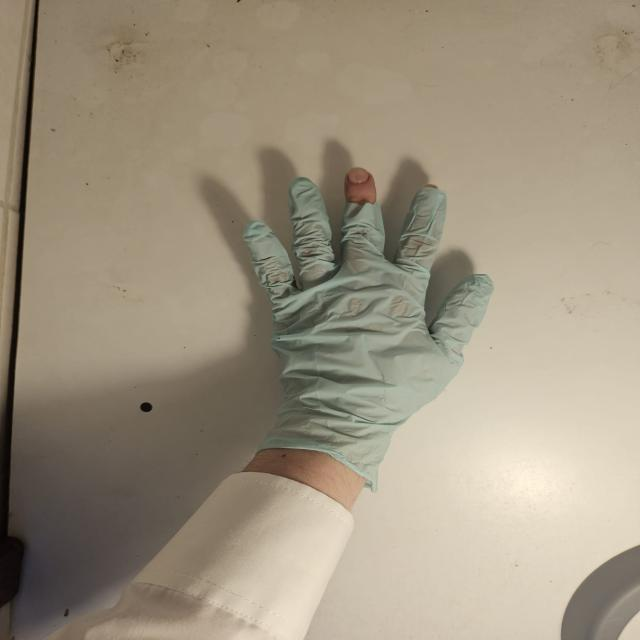gloves_damaged: (234, 166, 496, 492)
